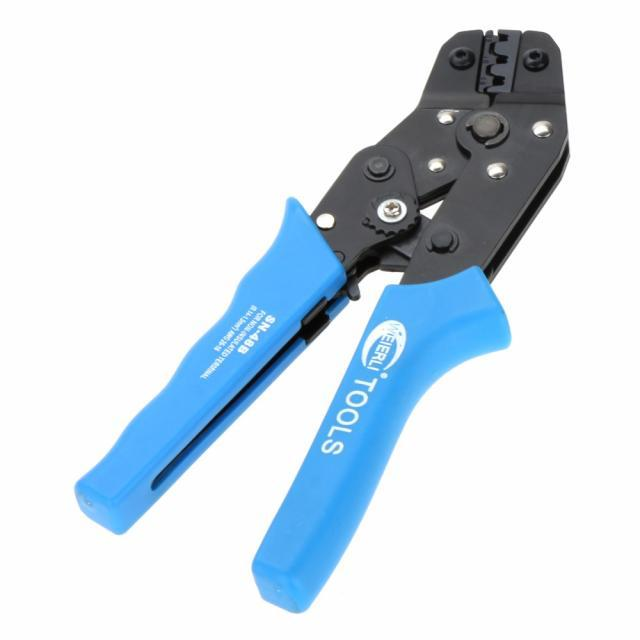pliers: (63, 22, 583, 617)
